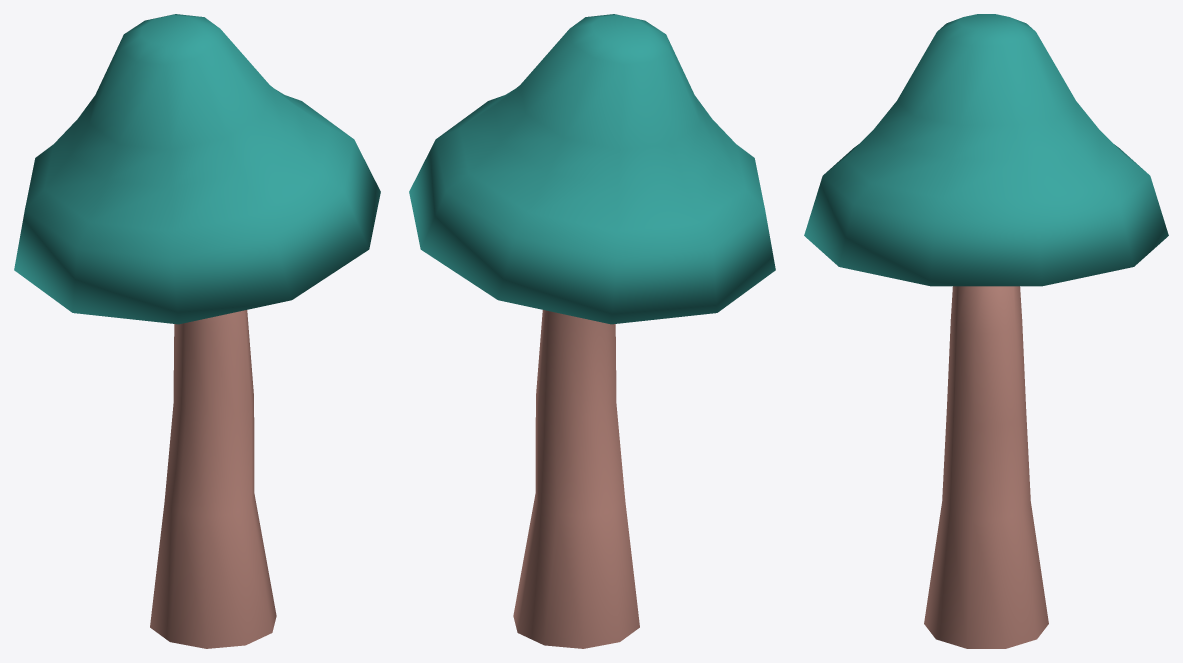
The model's file is Mushroom_Turquoise_Cone_2.fbx.
The picture shows the model from 3 angles, left to right: view 1: azimuth 30°, elevation 25°; view 2: azimuth 150°, elevation 25°; view 3: azimuth 270°, elevation 25°; orthographic projection. The views are drawn at different scales.
Parts seen in each view (by area): view 1: Cylinder.570, Cylinder.571; view 2: Cylinder.570, Cylinder.571; view 3: Cylinder.570, Cylinder.571.
Boxes of the visible parts, x1,y1,x2,y2 form: Cylinder.570: [14, 14, 380, 324]; Cylinder.571: [150, 310, 276, 648]; Cylinder.570: [409, 14, 775, 324]; Cylinder.571: [513, 310, 639, 648]; Cylinder.570: [804, 14, 1168, 286]; Cylinder.571: [924, 286, 1048, 648].
Bounding box in the file's own units: 71.88 × 135 × 76.34.
